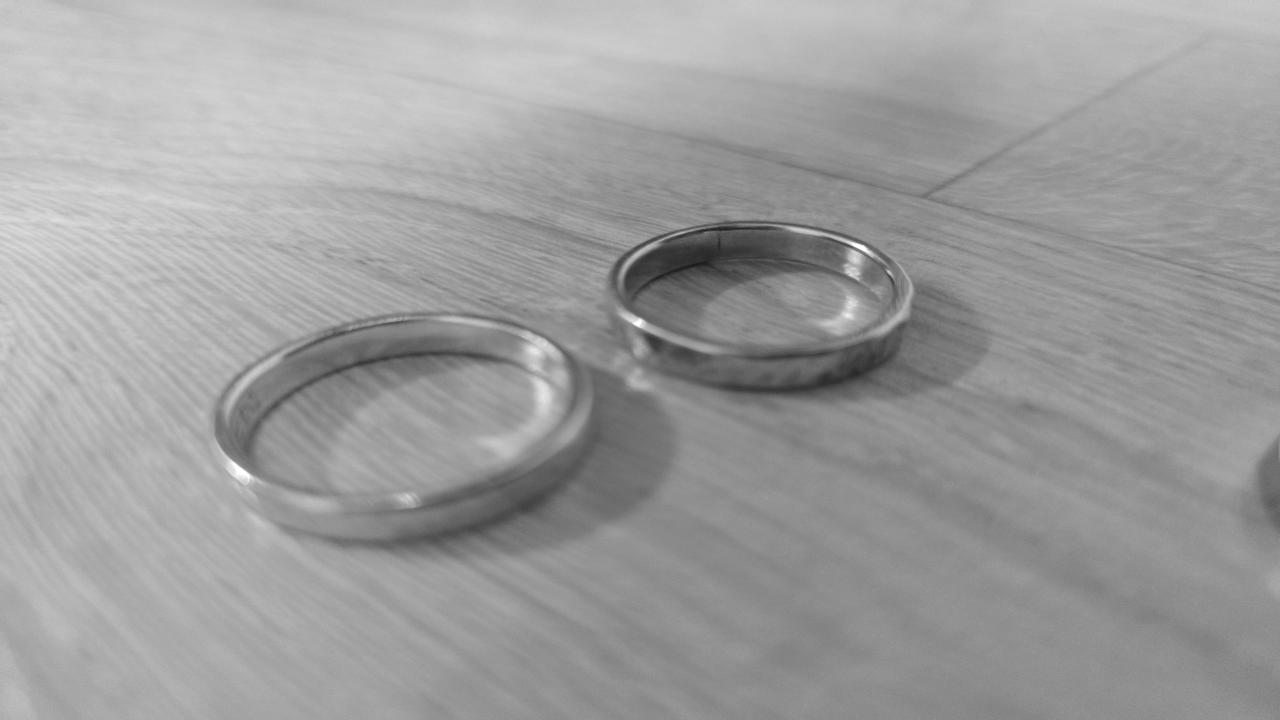ring: (212, 314, 596, 539), (605, 221, 915, 388)
